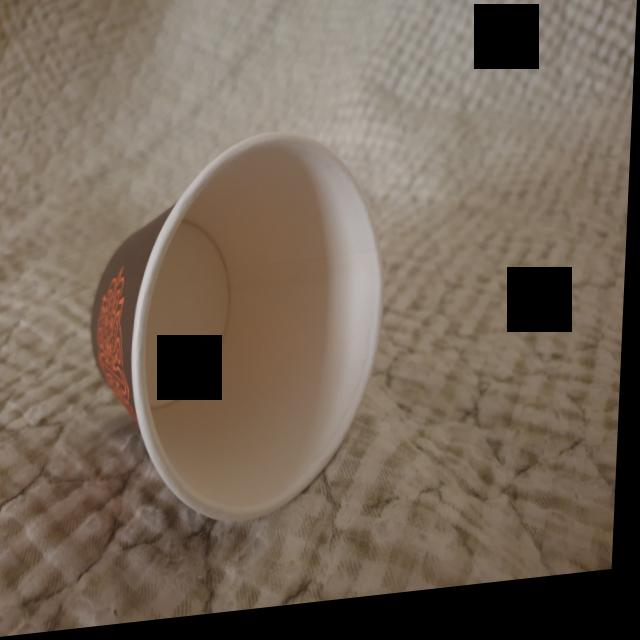cups: (86, 127, 393, 543)
